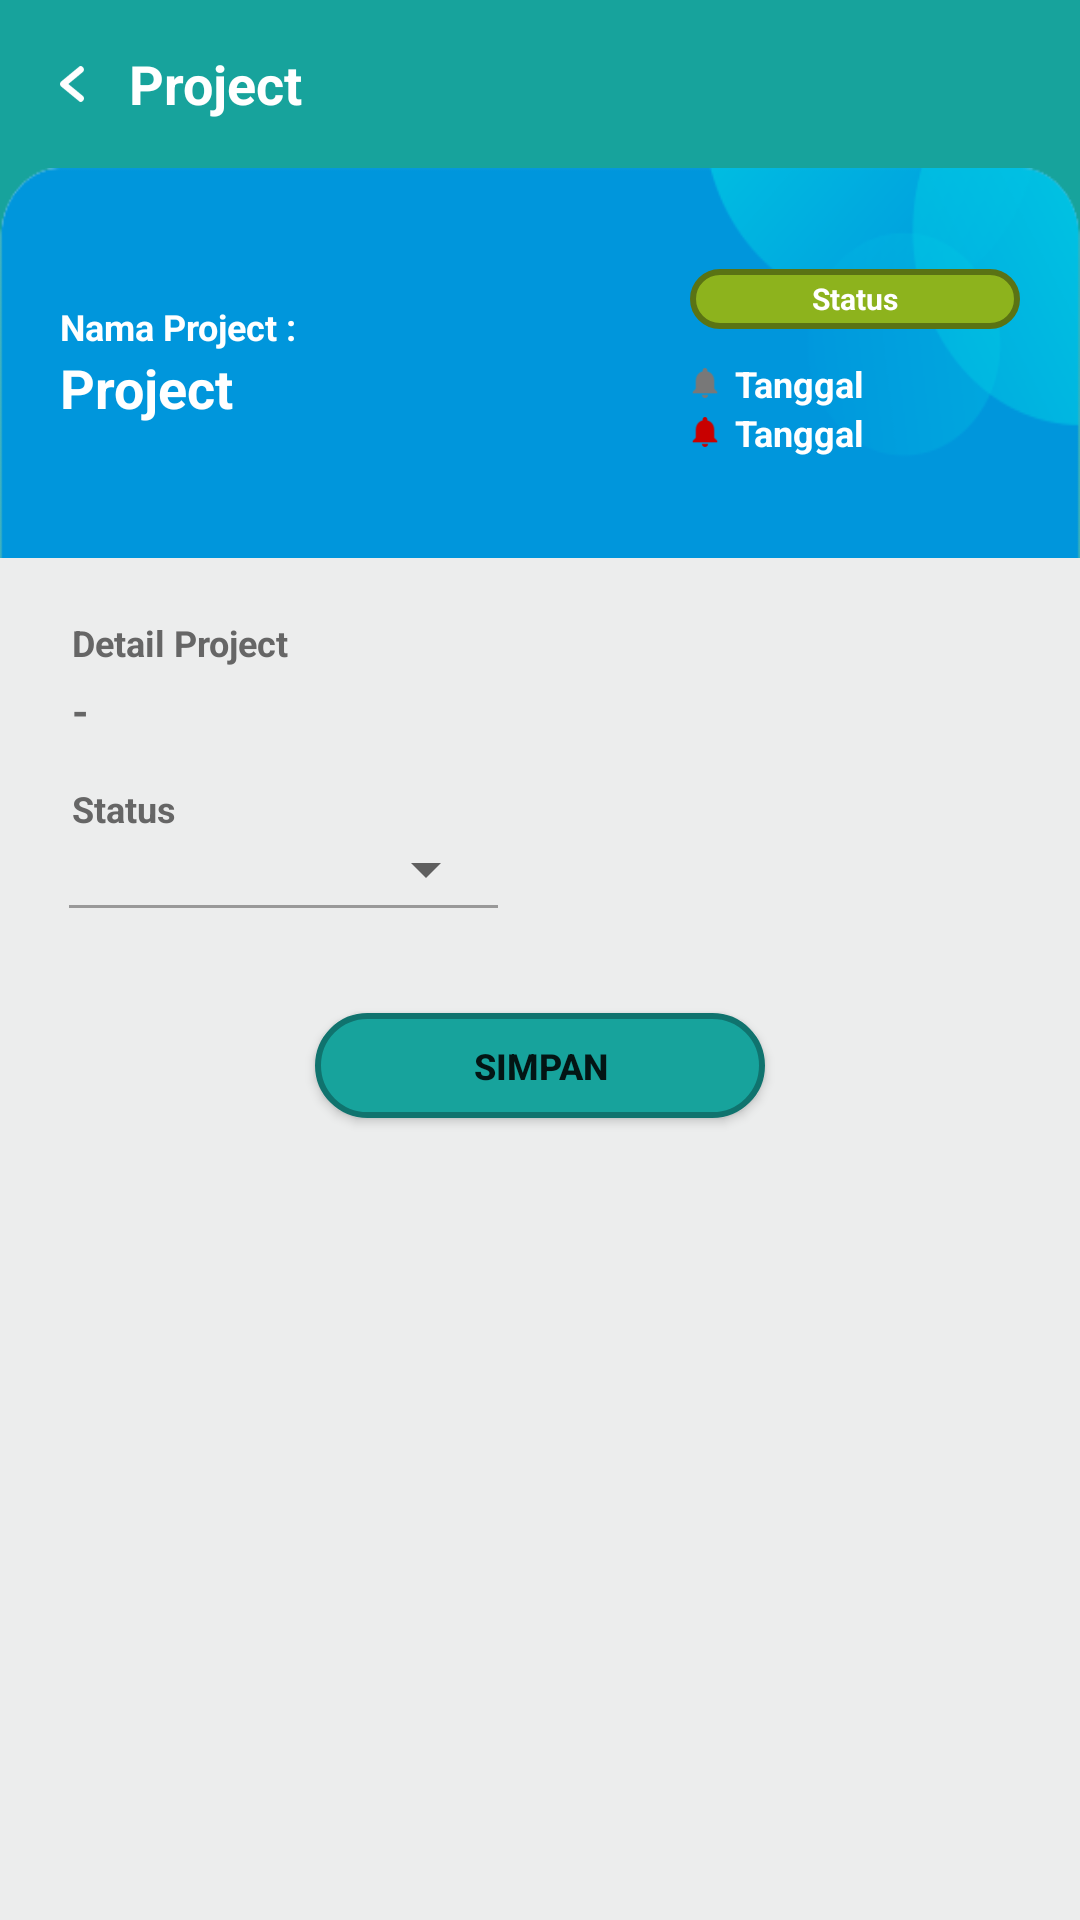

Where to tap for icons on this 1080px×1920px app screen, as (x=x, y=y):
back: (x=72, y=84)
